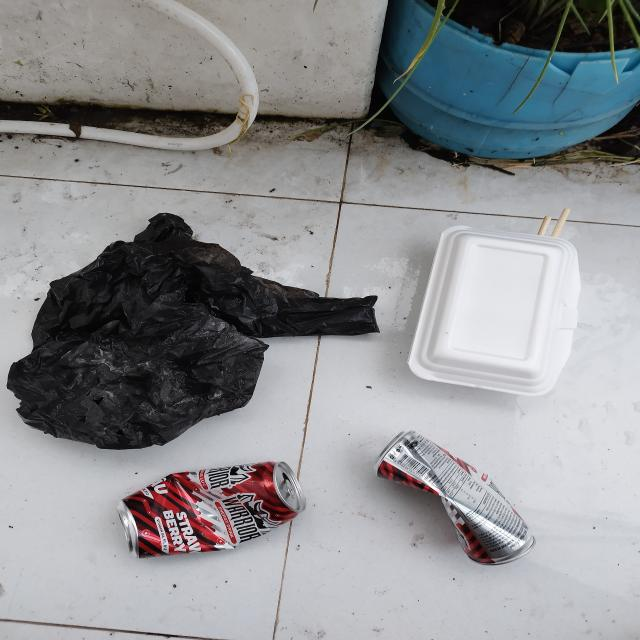bag: (6, 211, 382, 450)
can: (373, 430, 538, 568), (114, 460, 307, 560)
foam box: (408, 225, 582, 398)
